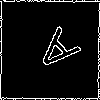A: (25, 25, 82, 82)
